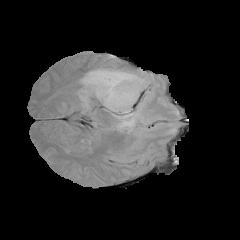glioma: (77, 69, 151, 129)
